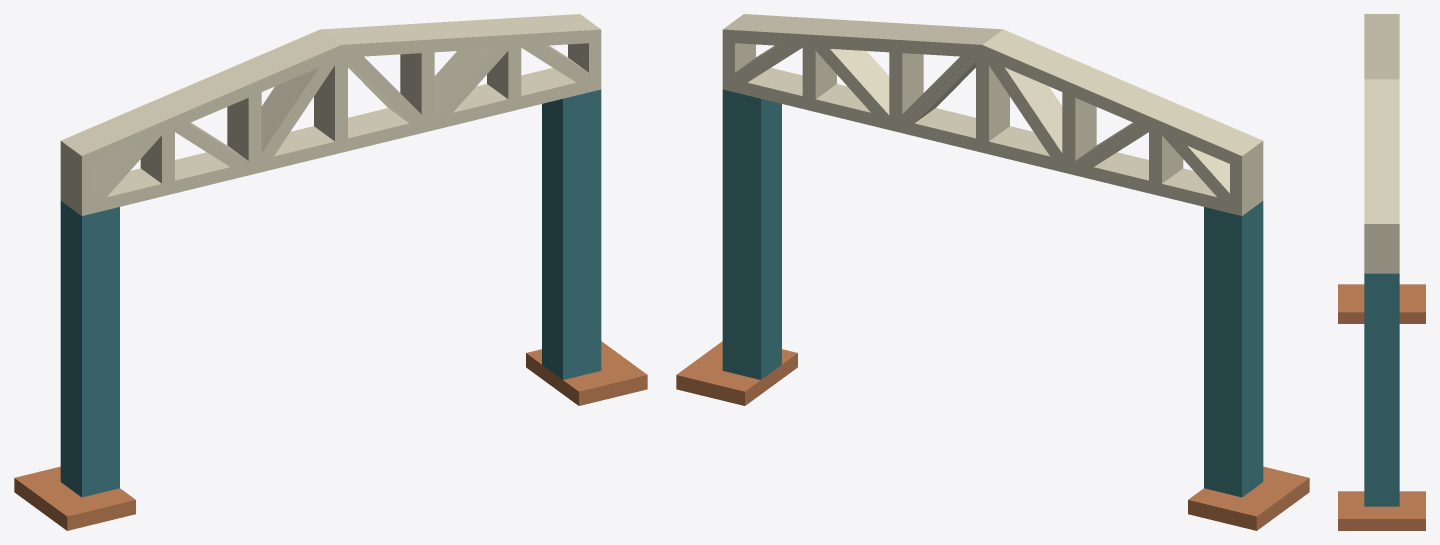
The picture shows the model from 3 angles, left to right: view 1: azimuth 30°, elevation 25°; view 2: azimuth 150°, elevation 25°; view 3: azimuth 270°, elevation 25°; orthographic projection. The views are drawn at different scales.
Parts seen in each view (by area): view 1: Truss_ContinuousTwelveWindowBody, Left_FullHeightColumn, Right_FullHeightColumn, Left_CompleteFlatFootplate, Right_CompleteFlatFootplate; view 2: Truss_ContinuousTwelveWindowBody, Left_FullHeightColumn, Right_FullHeightColumn, Left_CompleteFlatFootplate, Right_CompleteFlatFootplate; view 3: Truss_ContinuousTwelveWindowBody, Right_FullHeightColumn, Right_CompleteFlatFootplate, Left_CompleteFlatFootplate.
Boxes of the visible parts, x1,y1,x2,y2 form: Truss_ContinuousTwelveWindowBody: [60, 14, 601, 215]; Left_FullHeightColumn: [60, 201, 119, 497]; Right_FullHeightColumn: [542, 89, 601, 379]; Left_CompleteFlatFootplate: [14, 466, 135, 530]; Right_CompleteFlatFootplate: [526, 341, 647, 405]; Truss_ContinuousTwelveWindowBody: [722, 14, 1263, 215]; Left_FullHeightColumn: [1204, 201, 1263, 497]; Right_FullHeightColumn: [722, 89, 781, 379]; Left_CompleteFlatFootplate: [1188, 466, 1309, 530]; Right_CompleteFlatFootplate: [676, 341, 797, 405]; Truss_ContinuousTwelveWindowBody: [1364, 14, 1399, 273]; Right_FullHeightColumn: [1364, 273, 1399, 506]; Right_CompleteFlatFootplate: [1338, 491, 1425, 530]; Left_CompleteFlatFootplate: [1338, 284, 1425, 323].
Bounding box in the file's own units: 7.6 × 5.05 × 1.2.
